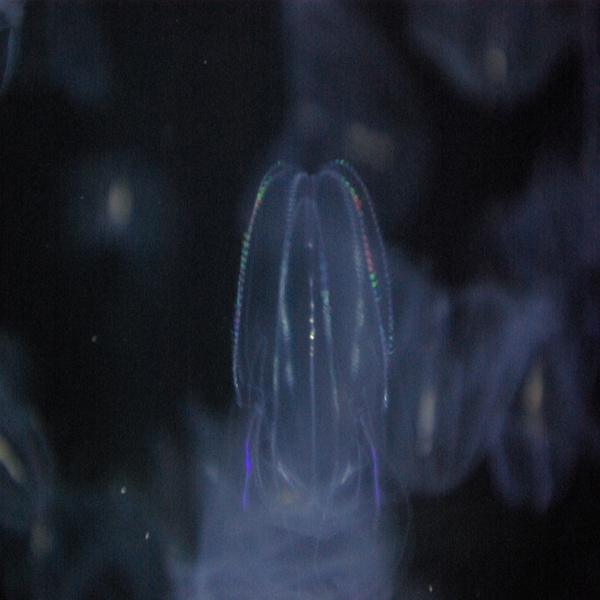Jellyfish: (226, 138, 402, 542)
